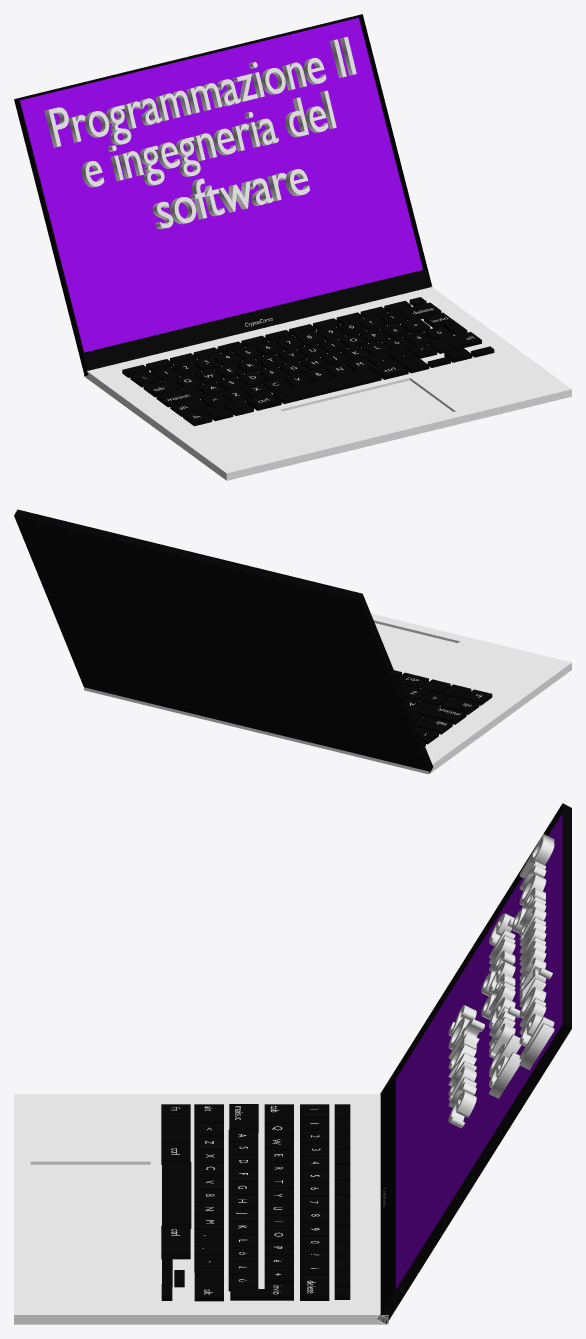
Rendered from programmazione2.glb.
3 views of the same model, one above another, from view 1: azimuth 30°, elevation 25°; view 2: azimuth 150°, elevation 25°; view 3: azimuth 270°, elevation 25° (orthographic). The views are drawn at different scales.
Visible parts, largest first — view 1: Cube.073, Cube, Text.001, Cube.074, Text, Cube.001, Text.002, Cube.072, Cube.123; view 2: Cube.001, Cube, Cube.065, Cube.064, Cube.066, Cube.071; view 3: Cube, Cube.073, Cube.001, Text.001, Text, Cube.074, Text.002, Cube.072, Cube.123, Cube.065, Cube.027.
Part boxes in pixels (<box>): Cube.073: <box>20,18,422,352</box>; Cube: <box>84,286,571,480</box>; Text.001: <box>44,36,356,147</box>; Cube.074: <box>82,269,431,370</box>; Text: <box>81,90,336,187</box>; Cube.001: <box>14,14,432,375</box>; Text.002: <box>152,169,309,229</box>; Cube.072: <box>272,368,381,403</box>; Cube.123: <box>428,332,481,353</box>; Cube.001: <box>14,509,433,772</box>; Cube: <box>84,613,571,774</box>; Cube.065: <box>417,703,466,724</box>; Cube.064: <box>440,696,479,714</box>; Cube.066: <box>415,716,452,734</box>; Cube.071: <box>397,672,428,688</box>; Cube: <box>14,1094,388,1324</box>; Cube.073: <box>396,813,562,1288</box>; Cube.001: <box>377,803,571,1323</box>; Text.001: <box>512,834,554,1069</box>; Text: <box>481,913,521,1098</box>; Cube.074: <box>380,1077,396,1313</box>; Text.002: <box>448,1005,484,1128</box>; Cube.072: <box>162,1161,191,1228</box>; Cube.123: <box>194,1269,223,1301</box>; Cube.065: <box>229,1104,258,1132</box>; Cube.027: <box>300,1276,329,1300</box>.
Size of the model in its own units: 6.79 by 4.31 by 7.25.
